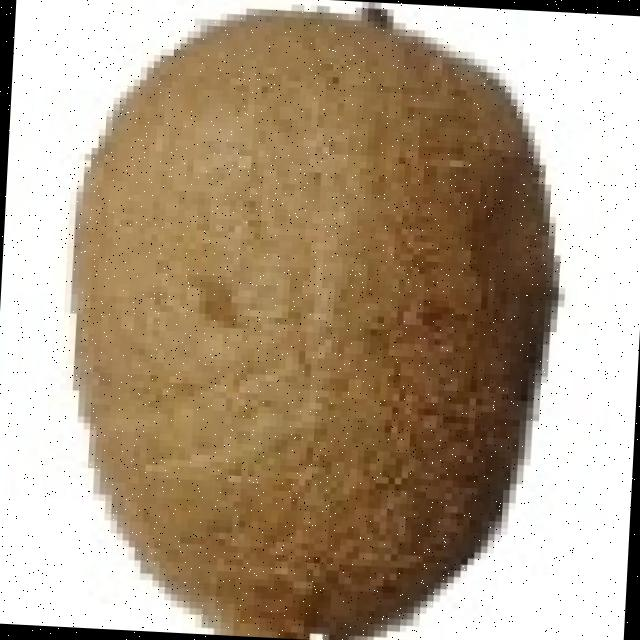kiwi: (68, 3, 546, 628)
